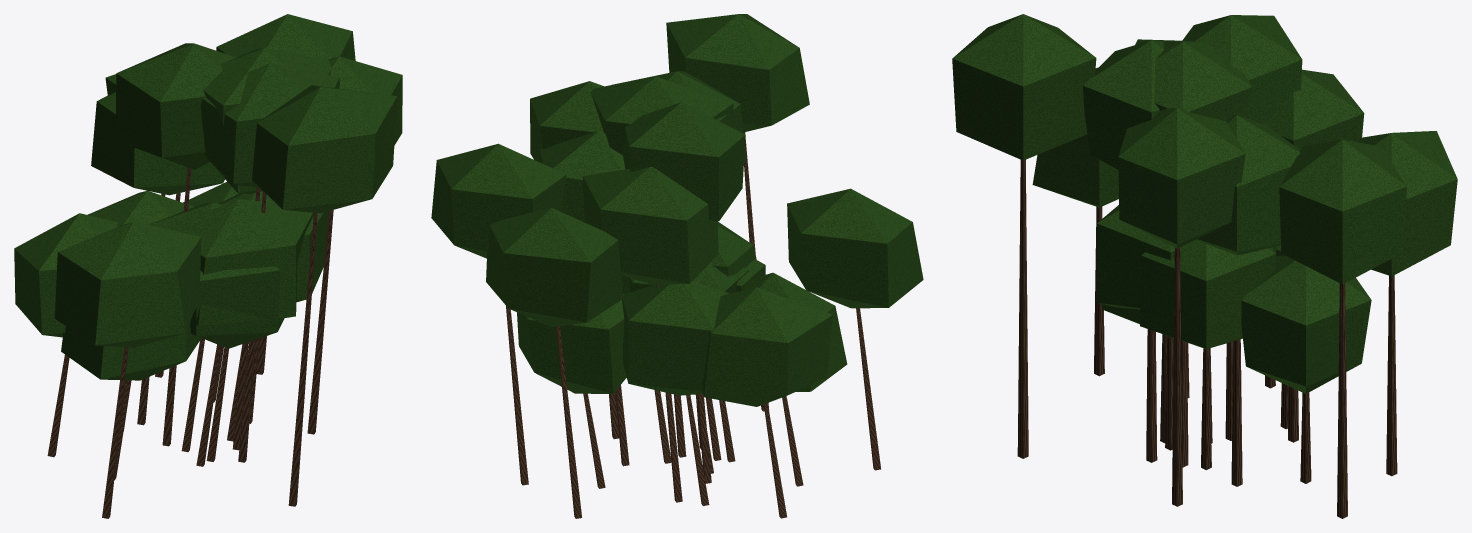
The model's file is bush_01.fbx.
3 views of the same model, side by side, from view 1: azimuth 30°, elevation 25°; view 2: azimuth 150°, elevation 25°; view 3: azimuth 270°, elevation 25° (orthographic). The views are drawn at different scales.
Visible parts, largest first — view 1: bush_01_LOD0; view 2: bush_01_LOD0; view 3: bush_01_LOD0.
Part boxes in pixels (box(x1,y1,x2,y2)): bush_01_LOD0: box(14, 14, 402, 518); bush_01_LOD0: box(431, 14, 923, 518); bush_01_LOD0: box(952, 14, 1457, 518).
Size of what is drawn, in the model's own units: 1 by 1 by 1.
